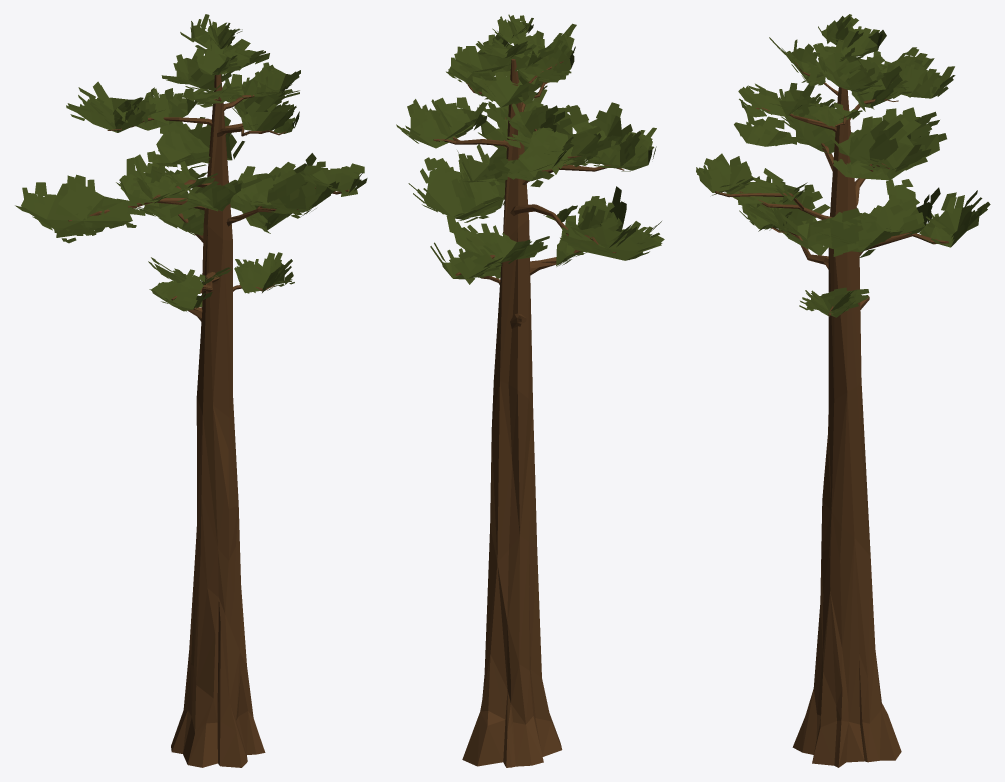
File: tree-sequoia-mature-a.gltf
The picture shows the model from 3 angles, left to right: view 1: azimuth 30°, elevation 25°; view 2: azimuth 150°, elevation 25°; view 3: azimuth 270°, elevation 25°; orthographic projection.
Parts seen in each view (by area): view 1: tree-sequoia-mature-a; view 2: tree-sequoia-mature-a; view 3: tree-sequoia-mature-a.
Part boxes in pixels (left/top/right/bottom): tree-sequoia-mature-a: left=15, top=14, right=367, bottom=767; tree-sequoia-mature-a: left=396, top=14, right=664, bottom=767; tree-sequoia-mature-a: left=696, top=14, right=990, bottom=767.
Bounding box in the file's own units: 0.0908 × 0.2408 × 0.089.
